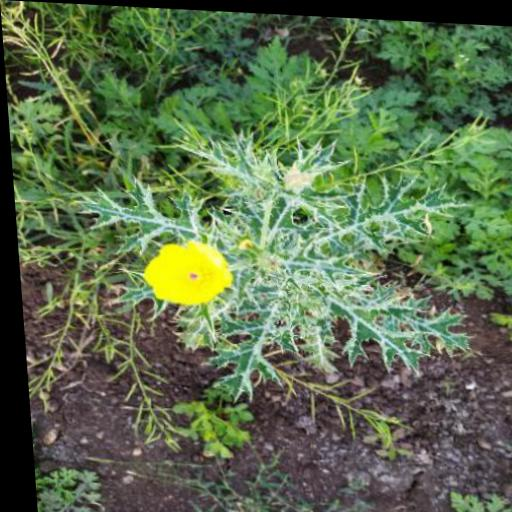weed: (22, 2, 512, 401)
